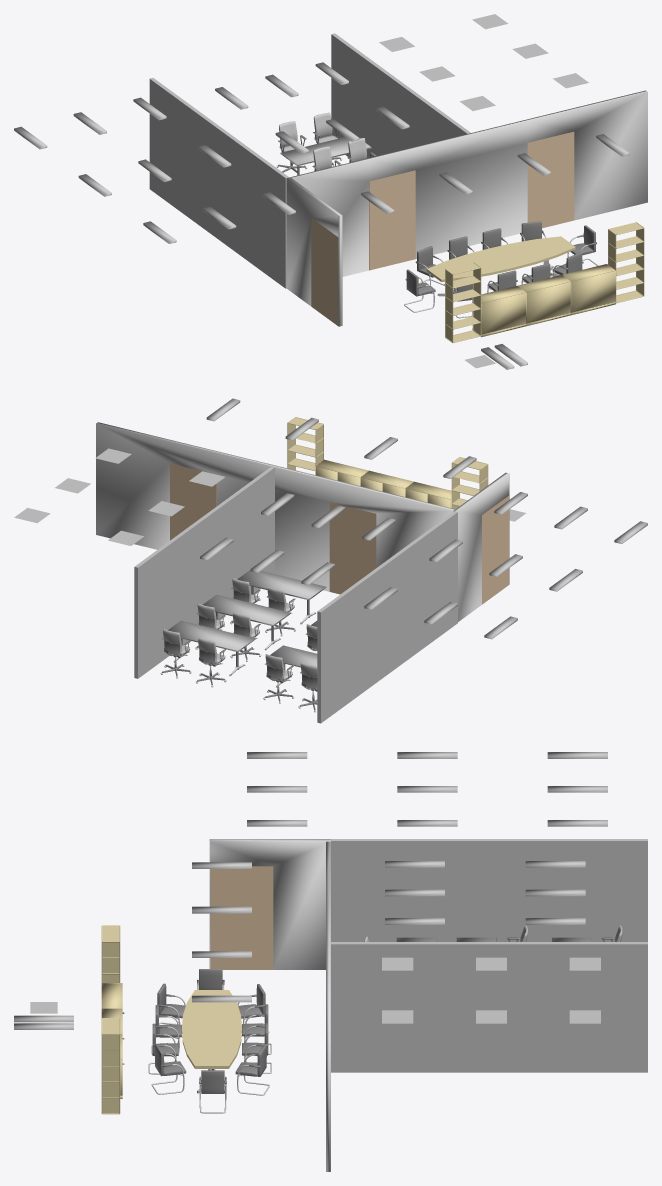
The model's file is Raum.fbx.
3 views of the same model, one above another, from view 1: azimuth 30°, elevation 25°; view 2: azimuth 150°, elevation 25°; view 3: azimuth 270°, elevation 25° (orthographic). The views are drawn at different scales.
Visible parts, largest first — view 1: B25, FE1, polySurface1, F22, C97, polySurface28, ED8, polySurface29, F80, C96, E28, FC1 (+2 smaller); view 2: B25, FE1, polySurface1, F22, C97, polySurface28, polySurface29, C96, E80, C04, E78, F80 (+1 smaller); view 3: polySurface1, FE1, F22, polySurface29, ED8, C96, B25, F80.
Boxes of the visible parts, x1,y1,x2,y2 form: B25: (290,90,647,276); FE1: (149,78,288,288); polySurface1: (331,33,470,158); F22: (286,177,342,326); C97: (369,170,415,270); polySurface28: (527,131,574,228); ED8: (426,236,575,281); polySurface29: (311,218,338,325); F80: (445,262,481,342); C96: (608,222,644,303); E28: (571,271,615,312); FC1: (526,282,570,323); B25: (96,422,454,591); FE1: (317,511,457,723); polySurface1: (134,466,274,678); F22: (453,472,509,621); C97: (329,502,376,594); polySurface28: (170,463,216,540); polySurface29: (482,496,508,604); C96: (287,417,323,470); E80: (202,594,289,624); C04: (237,570,325,598); E78: (168,620,254,650); F80: (451,457,488,509); polySurface1: (331,942,647,1072); FE1: (331,839,647,941); F22: (209,839,330,969); polySurface29: (210,866,273,969); ED8: (182,990,241,1068); C96: (101,1018,120,1114); B25: (326,841,330,1171); F80: (101,925,120,982).
Bounding box in the file's own units: 13.75 × 2.89 × 12.65.
